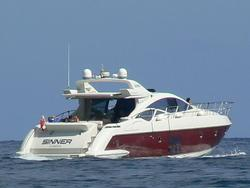yacht: (17, 57, 237, 156)
